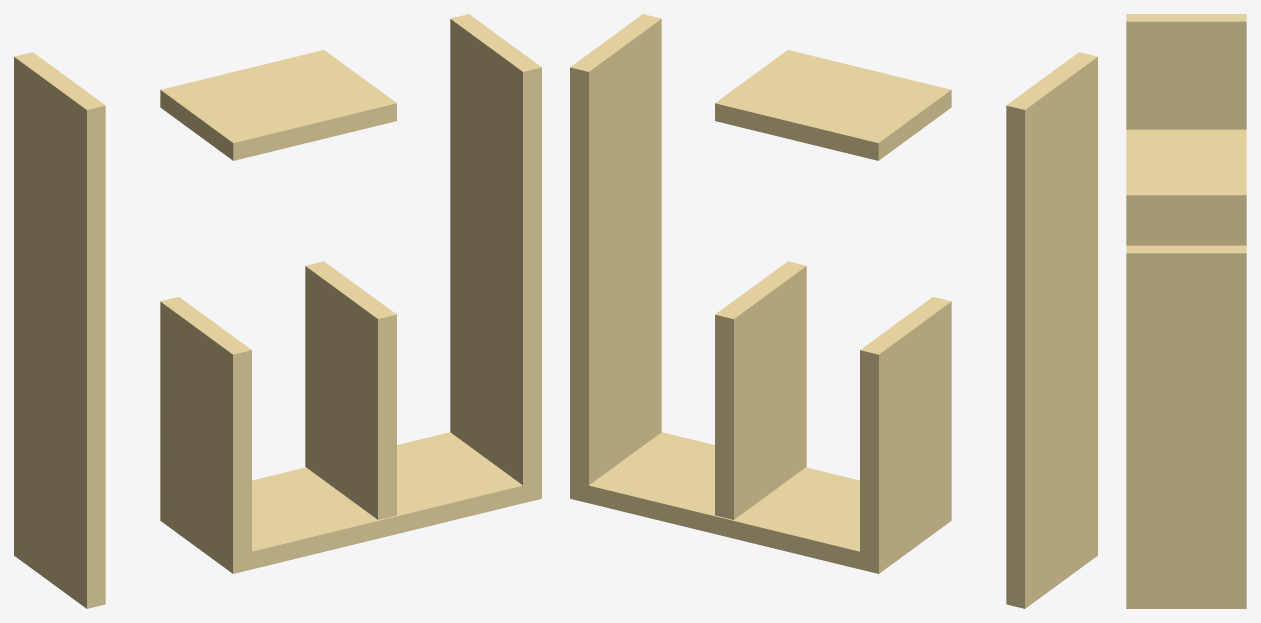
3 renders of one model, left to right at view 1: azimuth 30°, elevation 25°; view 2: azimuth 150°, elevation 25°; view 3: azimuth 270°, elevation 25°, orthographic. The views are drawn at different scales.
Visible parts, largest first — view 1: Wall__5_, Wall__7_, Wall__8_, Wall__9_, Wall_8__7_, Wall_8__6_, Wall_8__10_; view 2: Wall__5_, Wall__7_, Wall__8_, Wall__9_, Wall_8__7_, Wall_8__6_, Wall_8__10_; view 3: Wall__7_, Wall__5_, Wall_8__6_.
Part boxes in pixels (bbox=[...]): Wall__5_: bbox=[14, 52, 105, 608]; Wall__7_: bbox=[450, 14, 541, 500]; Wall__8_: bbox=[305, 261, 396, 519]; Wall__9_: bbox=[160, 302, 251, 573]; Wall_8__7_: bbox=[238, 432, 535, 572]; Wall_8__6_: bbox=[160, 50, 396, 160]; Wall_8__10_: bbox=[160, 297, 251, 358]; Wall__5_: bbox=[1006, 52, 1097, 608]; Wall__7_: bbox=[570, 14, 661, 500]; Wall__8_: bbox=[715, 261, 806, 519]; Wall__9_: bbox=[860, 302, 951, 573]; Wall_8__7_: bbox=[576, 432, 873, 572]; Wall_8__6_: bbox=[715, 50, 951, 160]; Wall_8__10_: bbox=[860, 297, 951, 358]; Wall__7_: bbox=[1126, 245, 1246, 608]; Wall__5_: bbox=[1126, 14, 1246, 245]; Wall_8__6_: bbox=[1126, 129, 1246, 209].
Bounding box in the file's own units: 386 × 405 × 107.
